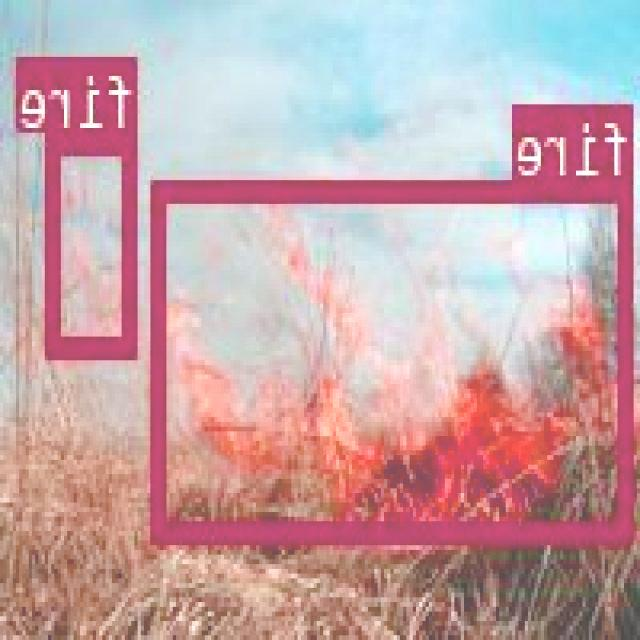fire: (156, 179, 635, 538), (49, 129, 139, 354)
